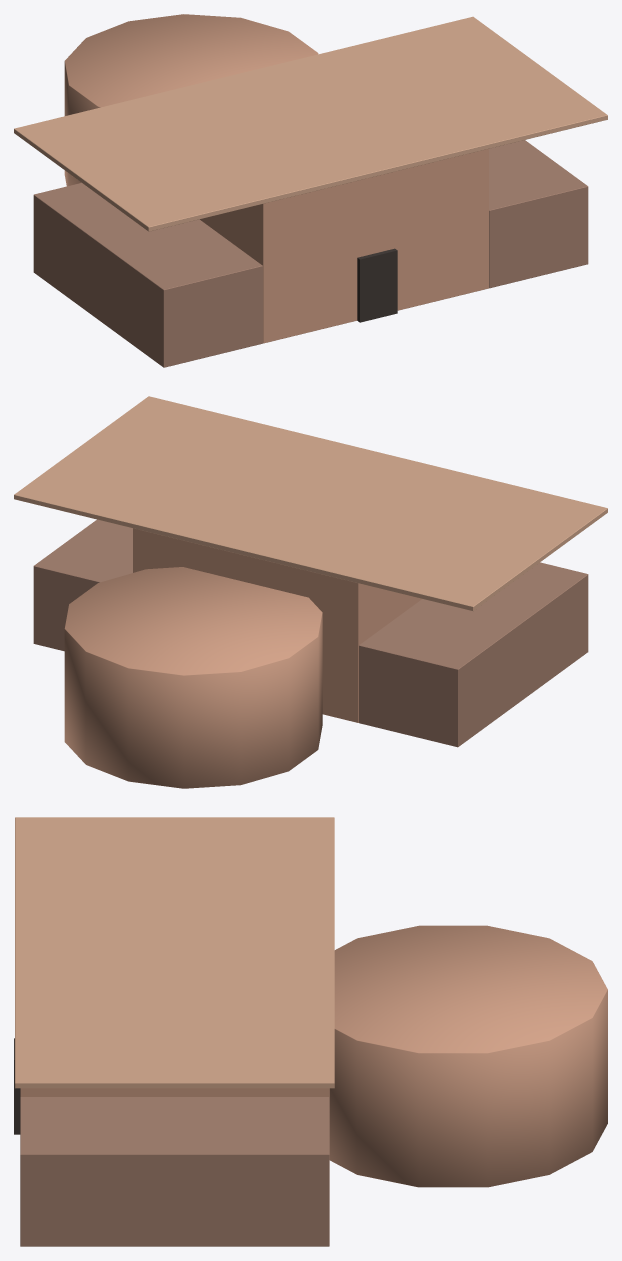
Rendered from basilica.glb.
The picture shows the model from 3 angles, top to bottom: view 1: azimuth 30°, elevation 25°; view 2: azimuth 150°, elevation 25°; view 3: azimuth 270°, elevation 25°; orthographic projection. The views are drawn at different scales.
Visible parts, largest first — view 1: roof, merged_romanBrick, merged_brickDark, door; view 2: roof, merged_romanBrick, merged_brickDark; view 3: roof, merged_romanBrick, merged_brickDark.
Part boxes in pixels (left/top/right/bottom): roof: left=14, top=16, right=607, bottom=231; merged_romanBrick: left=64, top=14, right=488, bottom=343; merged_brickDark: left=33, top=140, right=588, bottom=367; door: left=357, top=248, right=397, bottom=322; roof: left=14, top=396, right=607, bottom=610; merged_romanBrick: left=64, top=528, right=421, bottom=788; merged_brickDark: left=33, top=519, right=588, bottom=747; roof: left=15, top=817, right=334, bottom=1088; merged_romanBrick: left=20, top=925, right=607, bottom=1187; merged_brickDark: left=20, top=1097, right=329, bottom=1246.
Bounding box in the file's own units: 61 × 18.6 × 57.6.
